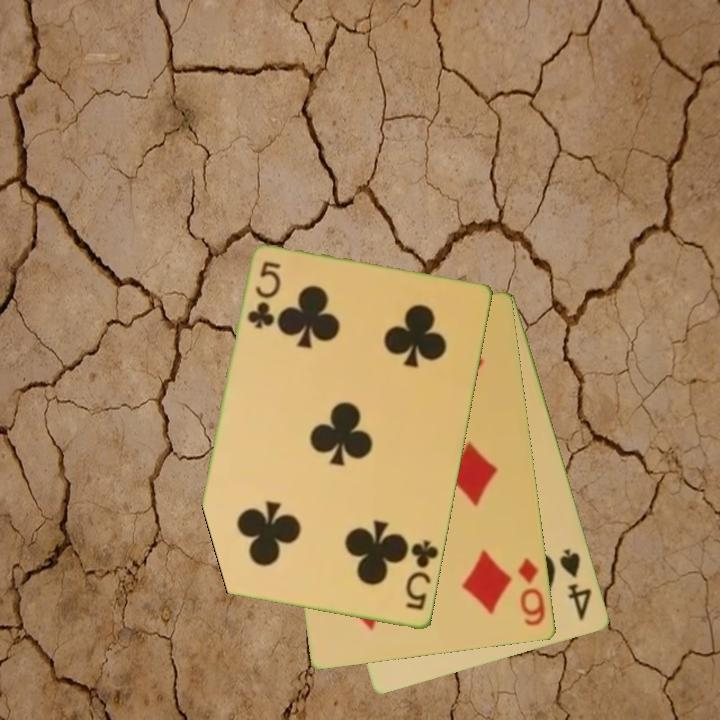4s: (556, 545, 596, 624)
5c: (402, 537, 441, 614), (244, 258, 284, 332)
6d: (515, 555, 549, 630)
